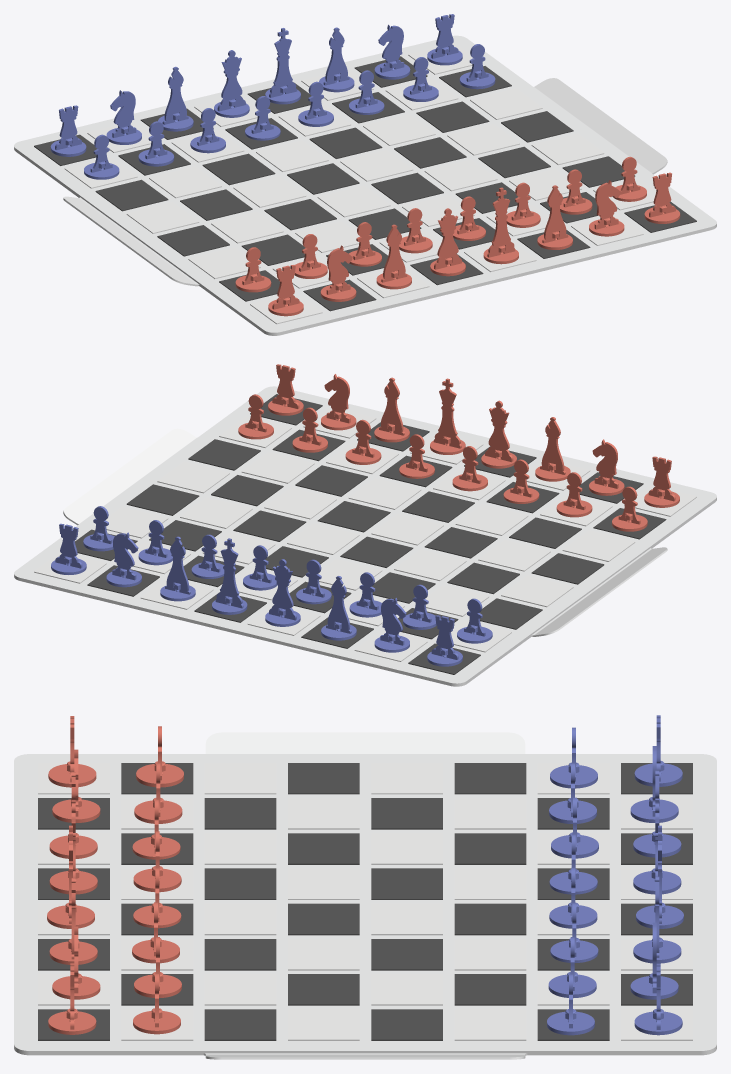
File: SCSChessSet.glb
3 views of the same model, one above another, from view 1: azimuth 30°, elevation 25°; view 2: azimuth 150°, elevation 25°; view 3: azimuth 270°, elevation 25° (orthographic). The views are drawn at different scales.
Parts seen in each view (by area): view 1: Body1; view 2: Body1; view 3: Body1.
Boxes of the visible parts, x1,y1,x2,y2 form: Body1: [14, 14, 716, 335]; Body1: [14, 364, 716, 686]; Body1: [14, 715, 716, 1059].
Bounding box in the file's own units: 0.6123 × 0.0857 × 0.5588.
